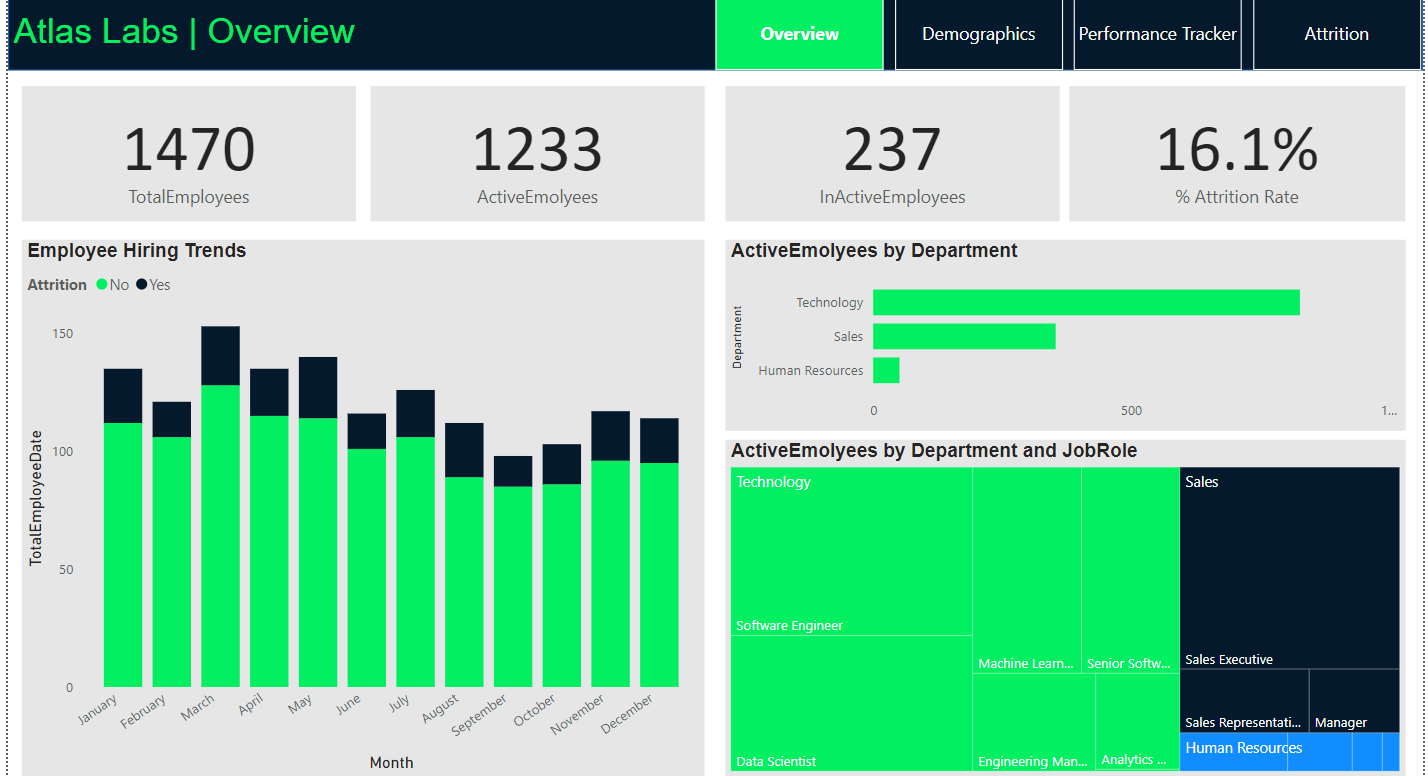

This screenshot's page, from the dashboard's own definition file:
{"tool":"powerbi","page":{"name":"Overview","canvas":[1280,720],"ordinal":0},"visuals":[{"type":"shape","box":[0,0,1280,67.5],"z":0},{"type":"textbox","box":[0,8.8,422.5,48.8],"z":1000},{"type":"pageNavigator","box":[640,0,640,67.5],"z":2000},{"type":"card","fields":{"Values":["Employee (1).ToyalEmpioyees"]},"box":[12.5,81.2,302.5,122.5],"z":3000},{"type":"card","fields":{"Values":["Employee (1).ActiveEmolyees"]},"box":[327.5,81.2,302.5,122.5],"z":4000},{"type":"card","fields":{"Values":["Employee (1).InActiveEmployees"]},"box":[648.8,81.2,302.5,122.5],"z":5000},{"type":"card","fields":{"Values":["Employee (1).% Attrition Rate"]},"box":[960,81.2,303.8,122.5],"z":6000},{"type":"columnChart","title":"Employee Hiring Trends","fields":{"Y":["Employee.TotalEmployeeDate"],"Category":["Date.Date.Variation.Date Hierarchy.Month"],"Series":["Employee.Attrition"]},"box":[12.5,220,617.5,486.2],"z":7000},{"type":"clusteredBarChart","fields":{"Category":["Employee.Department"],"Y":["Employee.ActiveEmolyees"]},"box":[648.8,220,615,172.5],"z":8000},{"type":"treemap","fields":{"Group":["Employee.Department"],"Values":["Employee.ActiveEmolyees"],"Details":["Employee.JobRole"]},"box":[648.8,401.2,615,305],"z":9000}]}

Visuals, with their boxes on the page's 1280x720 design canvas (x1, y1, x2, y2). These are canvas units, not pixel positions in the 1428x776 screenshot, which may show the page scaled, cropped or inside an application window:
shape: rect(0, 0, 1280, 68)
textbox: rect(0, 9, 422, 58)
pageNavigator: rect(640, 0, 1280, 68)
card - Employee (1).ToyalEmpioyees: rect(12, 81, 315, 204)
card - Employee (1).ActiveEmolyees: rect(328, 81, 630, 204)
card - Employee (1).InActiveEmployees: rect(649, 81, 951, 204)
card - Employee (1).% Attrition Rate: rect(960, 81, 1264, 204)
"Employee Hiring Trends" columnChart: rect(12, 220, 630, 706)
clusteredBarChart - Employee.Department x Employee.ActiveEmolyees: rect(649, 220, 1264, 392)
treemap - Employee.Department x Employee.ActiveEmolyees: rect(649, 401, 1264, 706)
